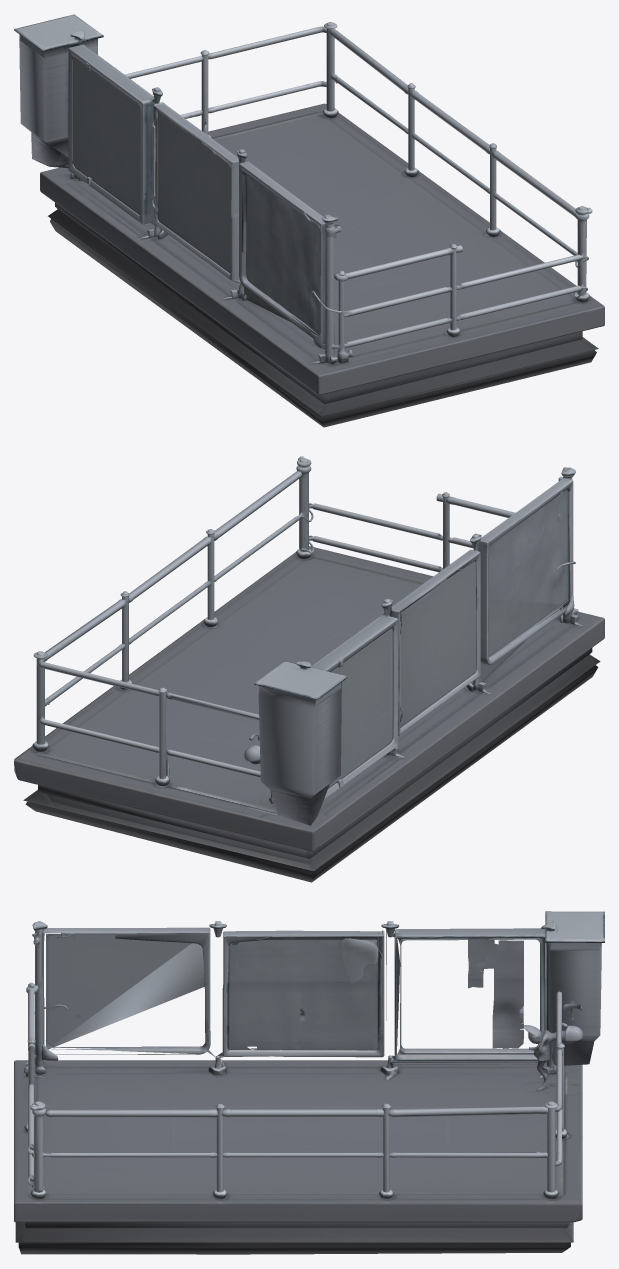
Rendered from toonstudio_rooftop_railing.glb.
The picture shows the model from 3 angles, top to bottom: view 1: azimuth 30°, elevation 25°; view 2: azimuth 150°, elevation 25°; view 3: azimuth 270°, elevation 25°; orthographic projection. The views are drawn at different scales.
Visible parts, largest first — view 1: tripo_92739e19_5a06_4929_be07_cafcc97aff8f; view 2: tripo_92739e19_5a06_4929_be07_cafcc97aff8f; view 3: tripo_92739e19_5a06_4929_be07_cafcc97aff8f.
Part boxes in pixels (x1,y1,x2,y2): tripo_92739e19_5a06_4929_be07_cafcc97aff8f: (14,14,604,427); tripo_92739e19_5a06_4929_be07_cafcc97aff8f: (14,456,604,882); tripo_92739e19_5a06_4929_be07_cafcc97aff8f: (14,911,604,1254).
Bounding box in the file's own units: 1.8 × 1.16 × 3.
1 material, 1 textured.
